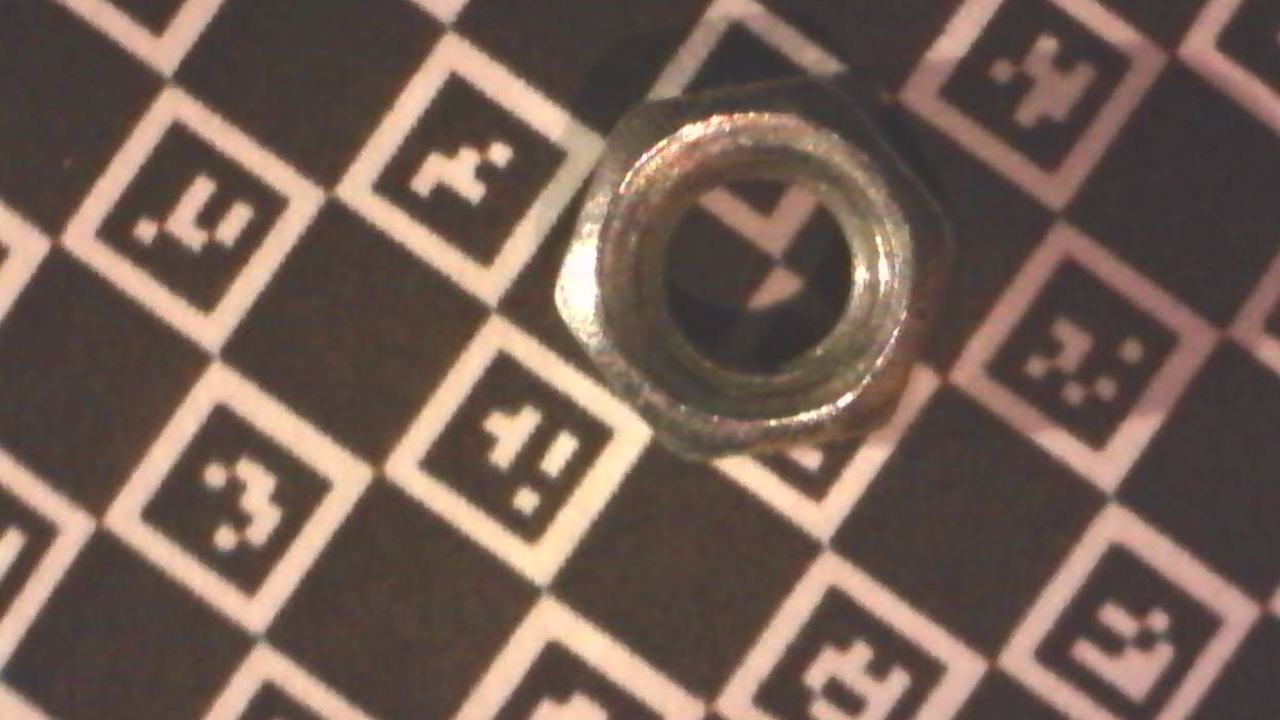Bolt: (551, 69, 957, 462)
